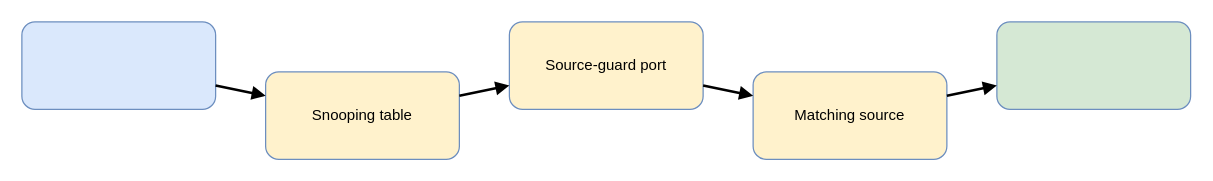
Some shapes in this 1213 by 181 pixel diagram are drawn without their labels. Each missing label, with the centre of its shape:
Drop mismatch: [1093,65]
Trusted DHCP uplink: [118,65]
